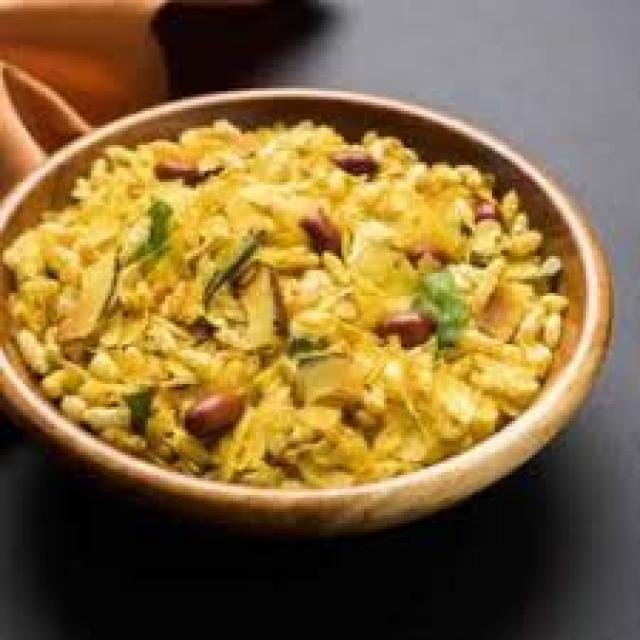POHA: (3, 119, 566, 486)
